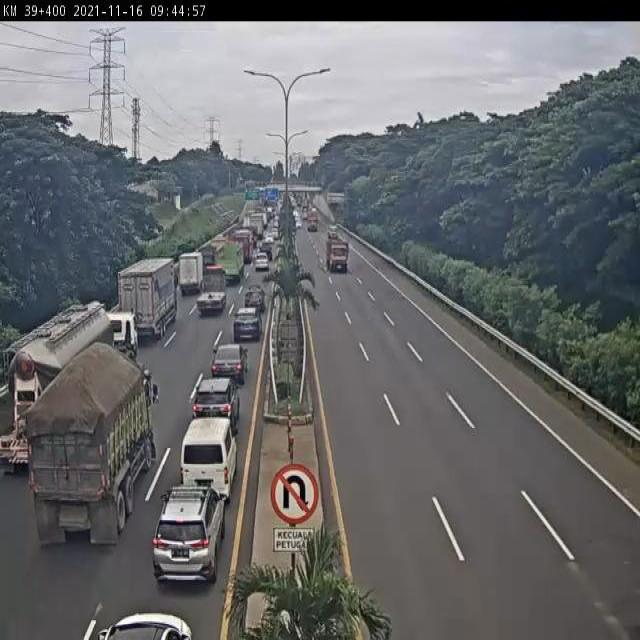car: (152, 488, 224, 584), (188, 378, 236, 442), (207, 345, 244, 388), (229, 309, 261, 348), (240, 290, 267, 322), (254, 250, 275, 278)
small bus: (180, 417, 235, 499)
truck-l-: (37, 350, 162, 546), (117, 258, 180, 342), (213, 232, 249, 284)
truck-m-: (196, 262, 231, 318), (174, 247, 205, 294)
truck-xl-: (2, 304, 135, 479)
